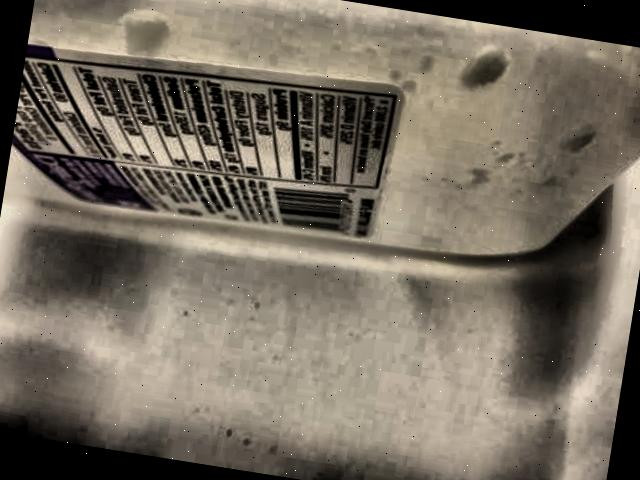Plastic: (0, 0, 640, 322)
